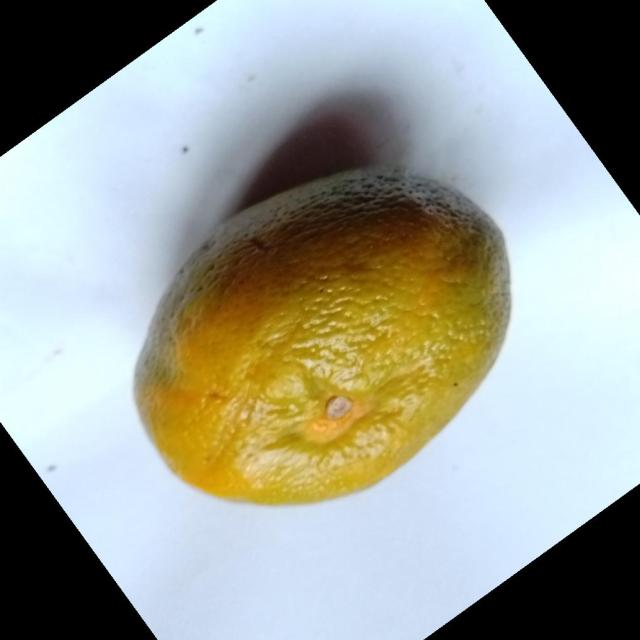fresh orange: (131, 162, 513, 506)
